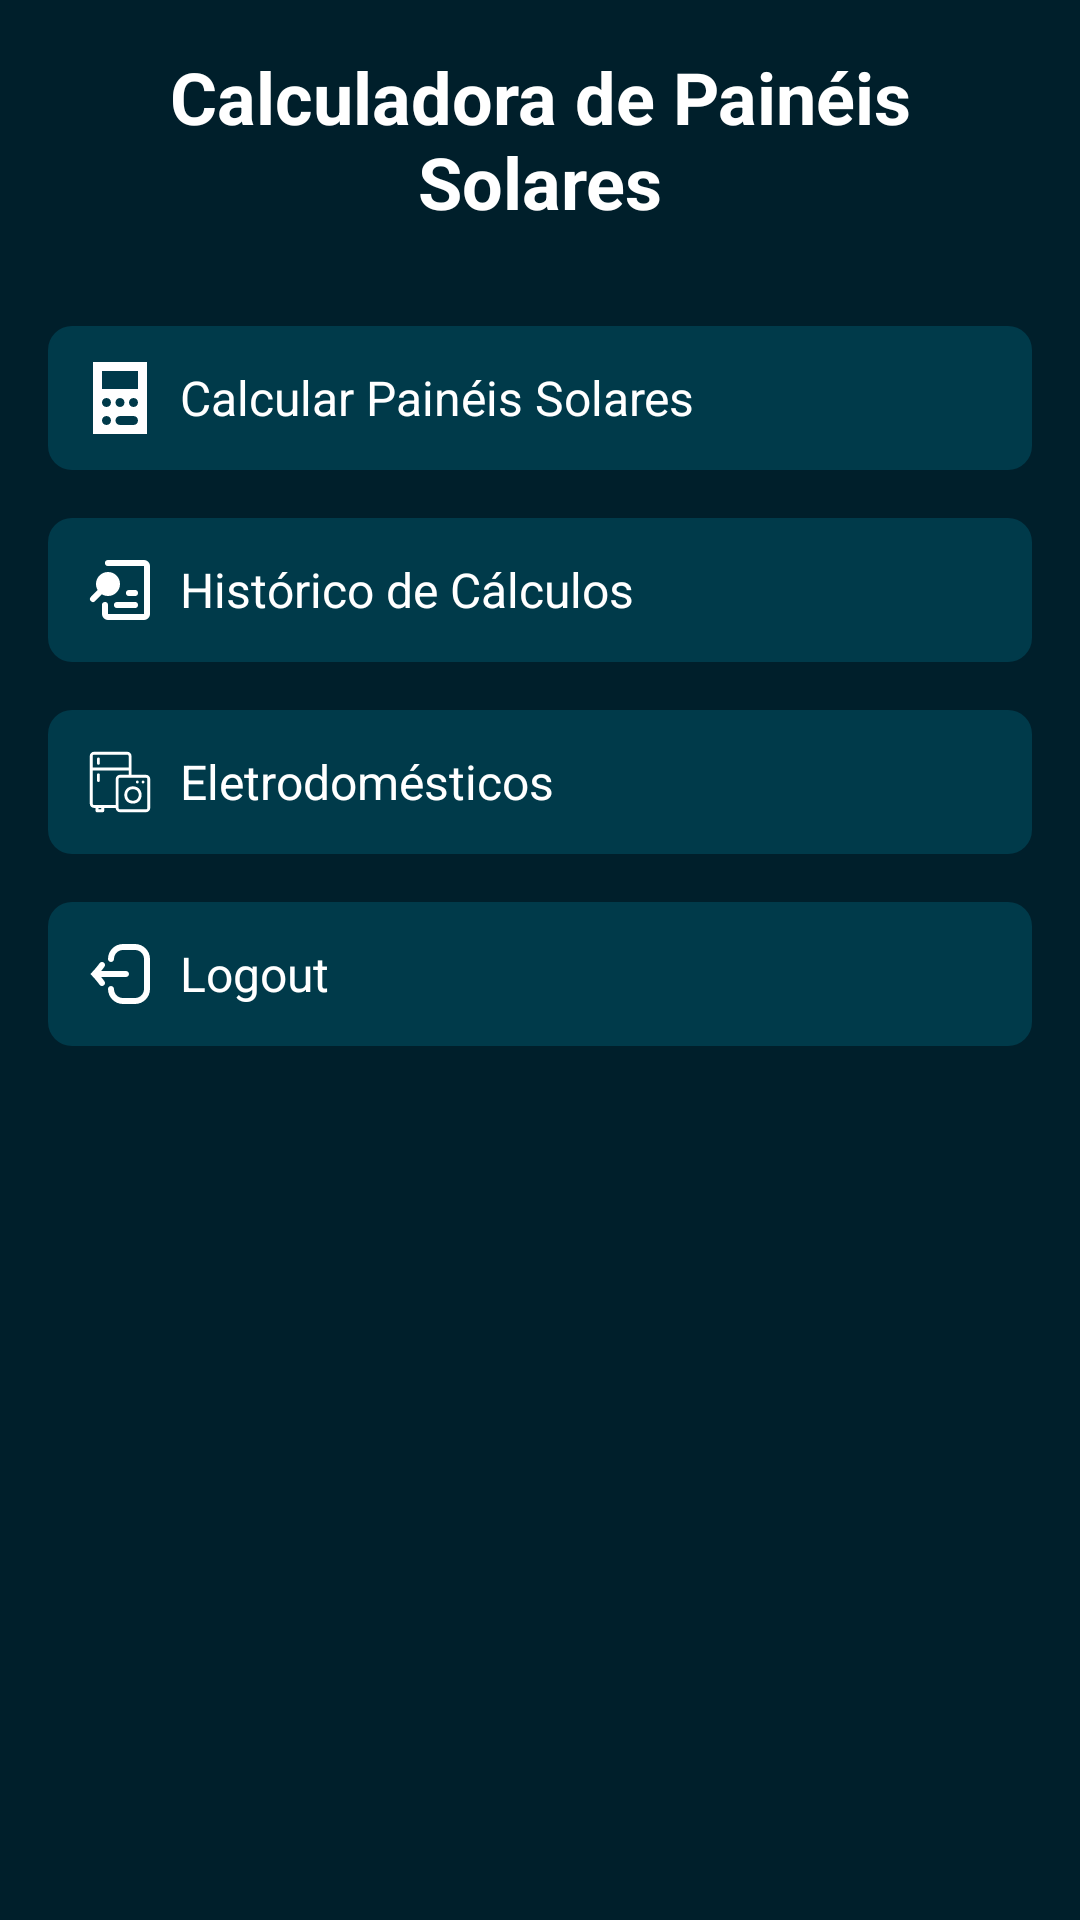

Where to tap for icons on this 1080 × 1920 app screen, as point (x, y):
analyses: point (120, 590)
appliances: point (120, 782)
calculate: point (120, 398)
